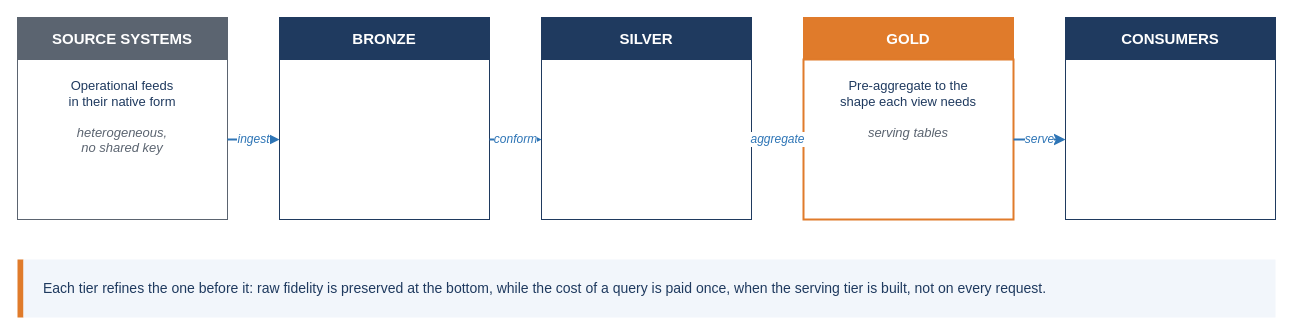
This 1293x335 diagram has some shape labels left out. The shapes that lost their labels are listed below. From the top down, each one's box as (x1, y1, x2, y2) in pixels, then its label:
(278, 58, 490, 220): Ingest each source exactly, read-only faithful raw copy
(540, 58, 752, 220): Conform identifiers and clean the grain dimensions and fact tables
(1064, 58, 1276, 220): Read straight from the serving tier no per-request re-derivation
